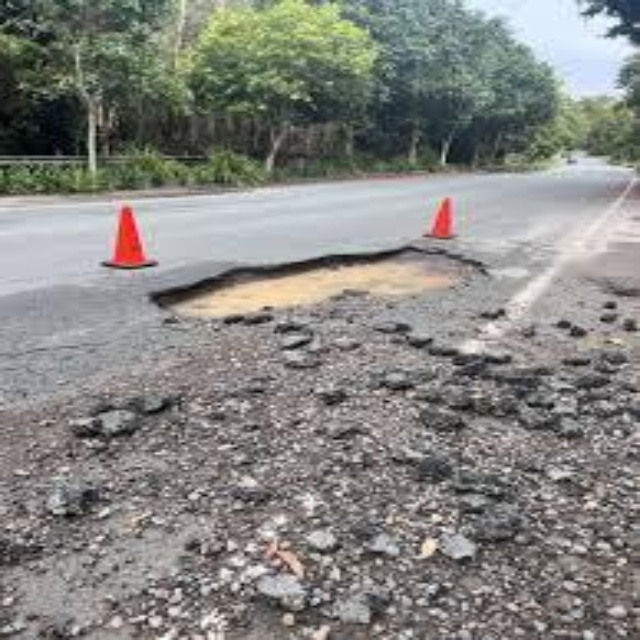pothole: (152, 247, 475, 321)
